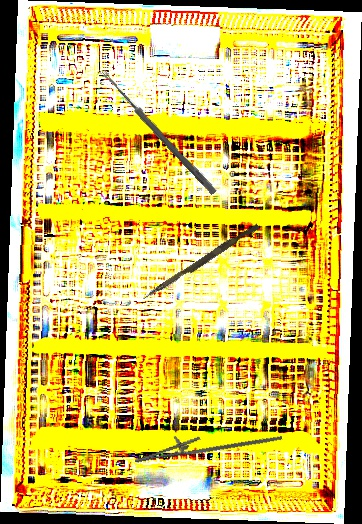Needle Holder: (131, 407, 283, 481)
Pusher: (142, 220, 260, 305)
Surgical Spoon: (99, 68, 218, 196)
